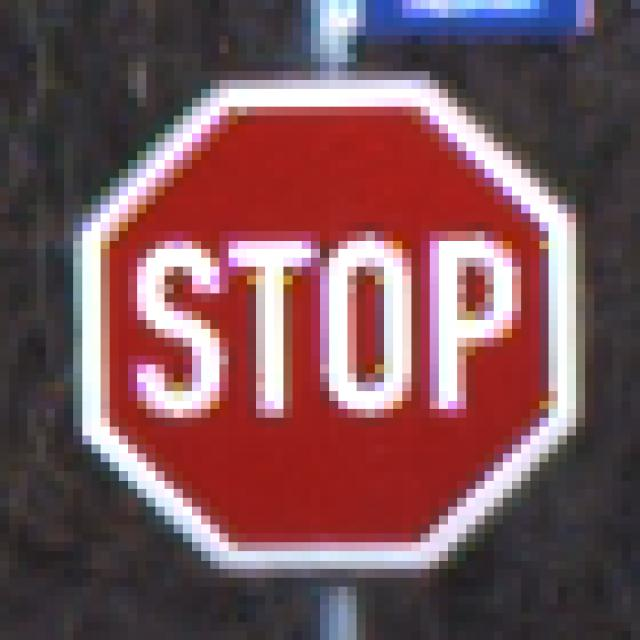STOP: (56, 63, 586, 588)
